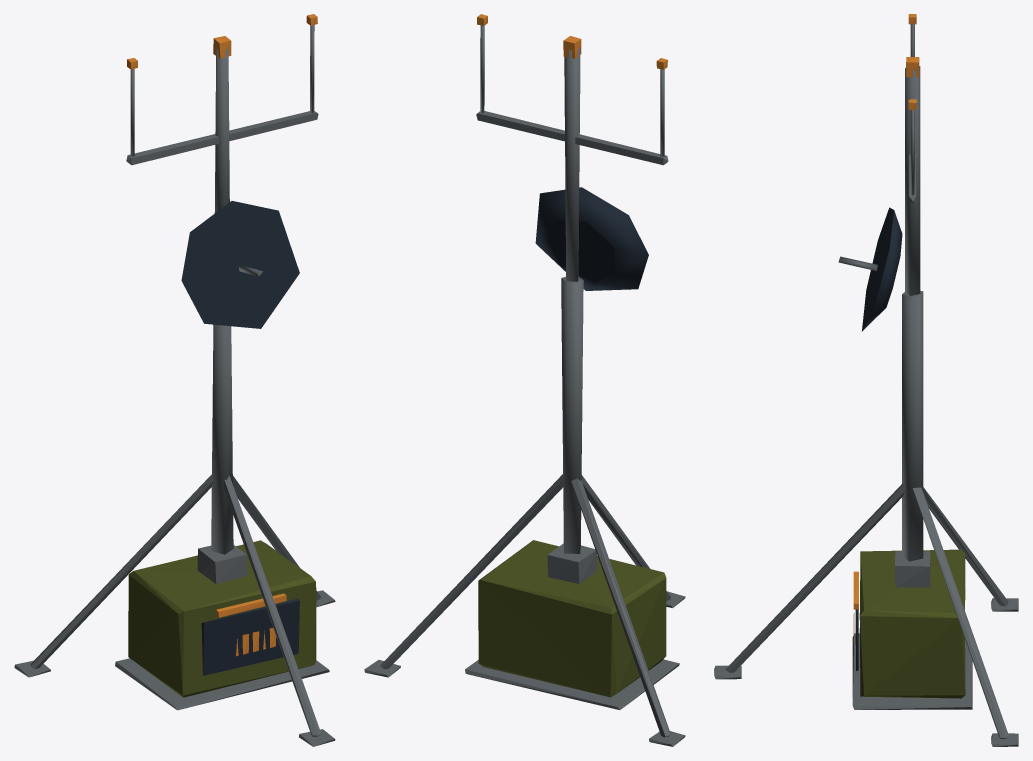
File: comms_relay_lod1.obj
3 renders of one model, left to right at view 1: azimuth 30°, elevation 25°; view 2: azimuth 150°, elevation 25°; view 3: azimuth 270°, elevation 25°, orthographic. The views are drawn at different scales.
Visible parts, largest first — view 1: comms_relay_lod1; view 2: comms_relay_lod1; view 3: comms_relay_lod1.
Boxes of the visible parts, box(x1,y1,x2,y2) form: comms_relay_lod1: box(14, 14, 335, 746); comms_relay_lod1: box(364, 14, 685, 746); comms_relay_lod1: box(714, 14, 1018, 746).
Bounding box in the file's own units: 1.78 × 3.5 × 1.56.
